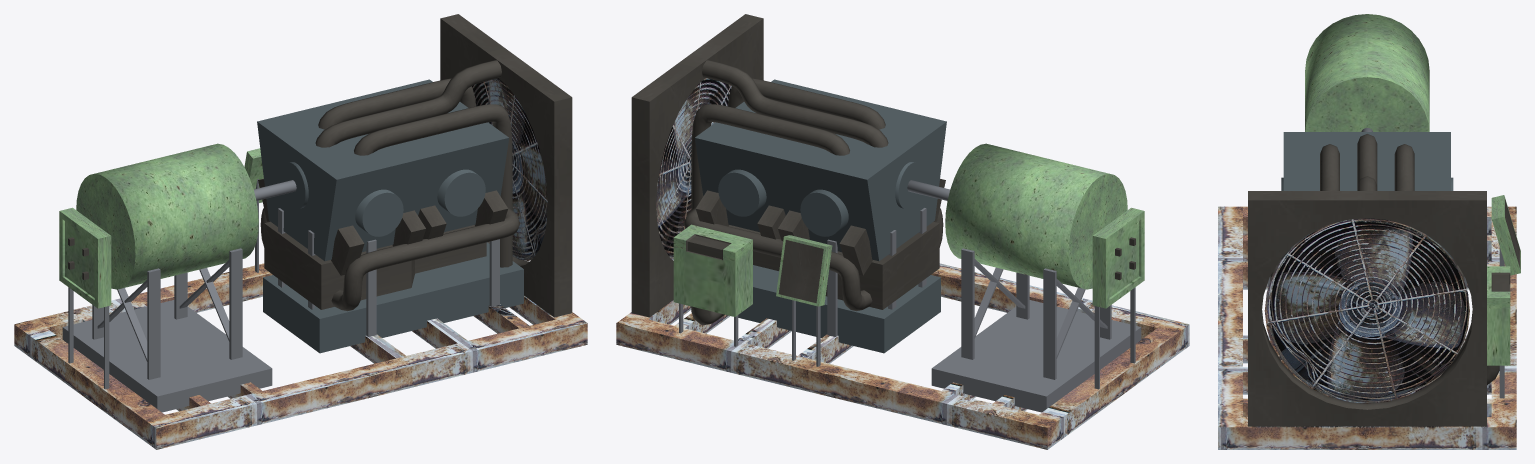
The model's file is diesel_generator.glb.
The picture shows the model from 3 angles, left to right: view 1: azimuth 30°, elevation 25°; view 2: azimuth 150°, elevation 25°; view 3: azimuth 270°, elevation 25°; orthographic projection. The views are drawn at different scales.
Visible parts, largest first — view 1: Props.diesel_generator; view 2: Props.diesel_generator; view 3: Props.diesel_generator.
Part boxes in pixels (x1=…): Props.diesel_generator: x1=14, y1=14, x2=587, y2=449; Props.diesel_generator: x1=616, y1=14, x2=1189, y2=449; Props.diesel_generator: x1=1218, y1=14, x2=1520, y2=449.
Size of the model in its own units: 4.29 by 2.21 by 2.43.
5 materials, 3 textured.
